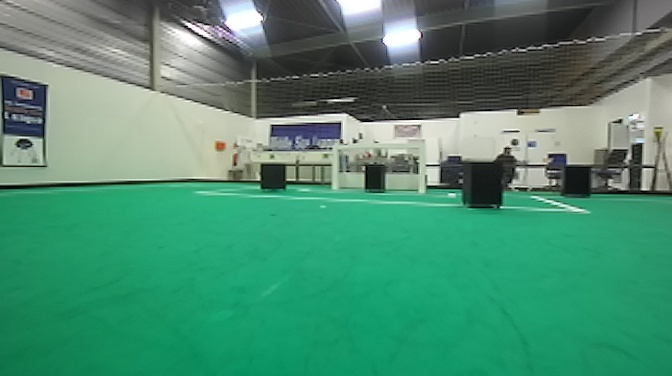goalpost: (413, 137, 429, 197), (328, 143, 340, 195)
